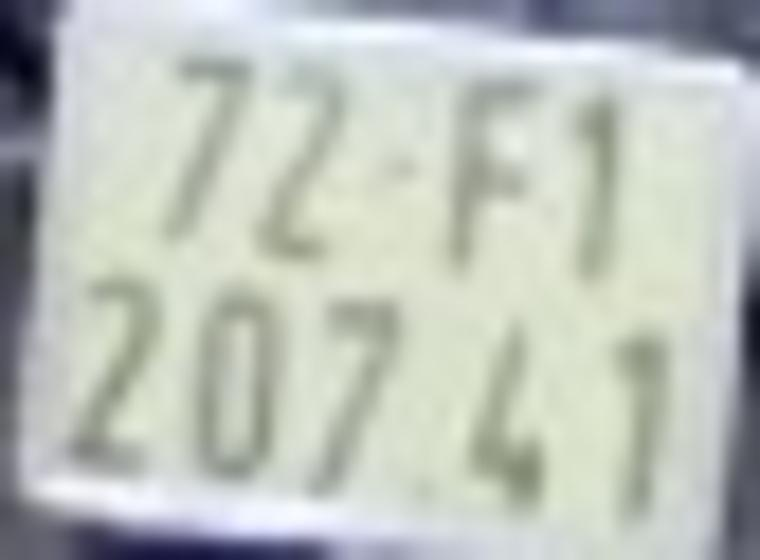-: (369, 147, 427, 208)
.: (406, 465, 447, 524)
0: (183, 271, 285, 487)
1: (582, 326, 677, 535), (561, 80, 635, 284)
2: (54, 268, 173, 475), (259, 55, 352, 268)
4: (452, 305, 565, 527)
7: (298, 278, 401, 502), (148, 51, 259, 244)
F: (432, 74, 548, 277)
